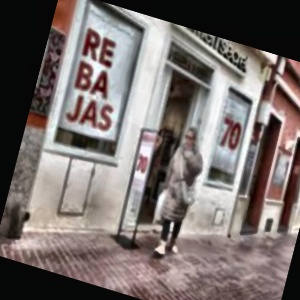women_secret: (191, 29, 300, 71)
